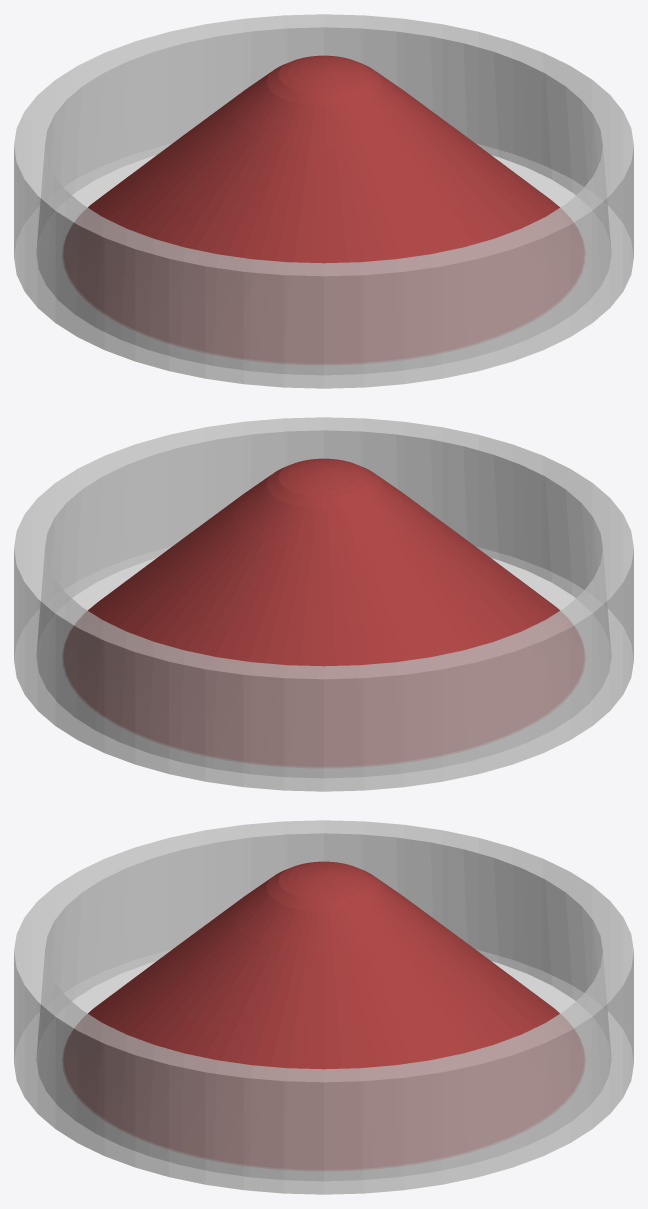
File: RedPhosphorus.fbx
3 views of the same model, one above another, from view 1: azimuth 30°, elevation 25°; view 2: azimuth 150°, elevation 25°; view 3: azimuth 270°, elevation 25° (orthographic).
Parts seen in each view (by area): view 1: Cylinder, Cone; view 2: Cylinder, Cone; view 3: Cylinder, Cone.
Part boxes in pixels (bbox=[...]): Cylinder: bbox=[14, 14, 633, 388]; Cone: bbox=[63, 55, 584, 363]; Cylinder: bbox=[14, 417, 633, 791]; Cone: bbox=[63, 458, 584, 766]; Cylinder: bbox=[14, 820, 633, 1194]; Cone: bbox=[63, 861, 584, 1169].
Size of the model in its own units: 200 by 67.81 by 200.
